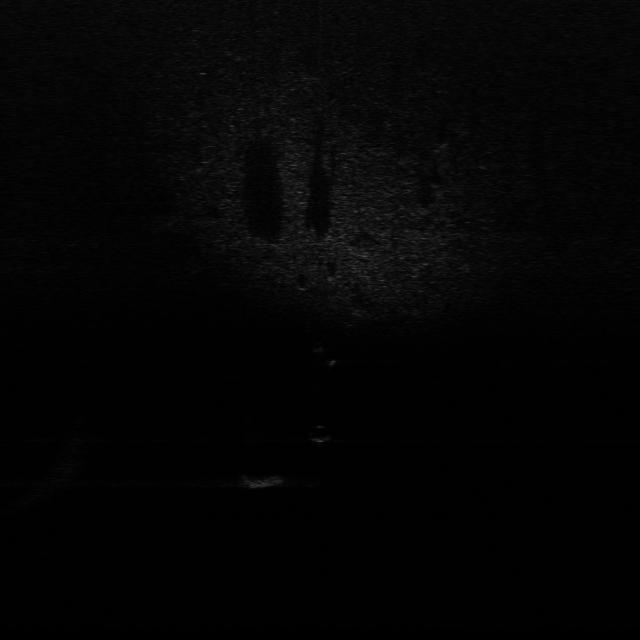ball: (308, 422, 334, 443)
human body: (303, 318, 339, 369)
square cage: (238, 471, 288, 491)
